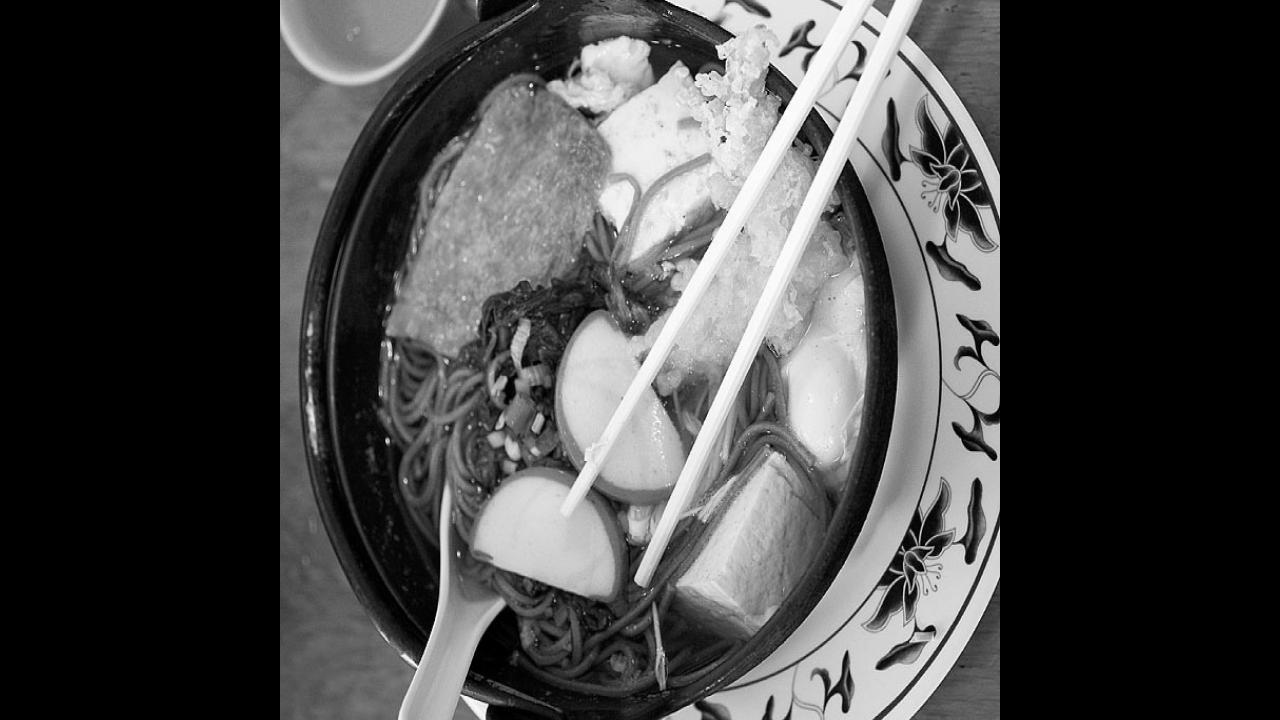chopstick: (560, 0, 994, 586)
